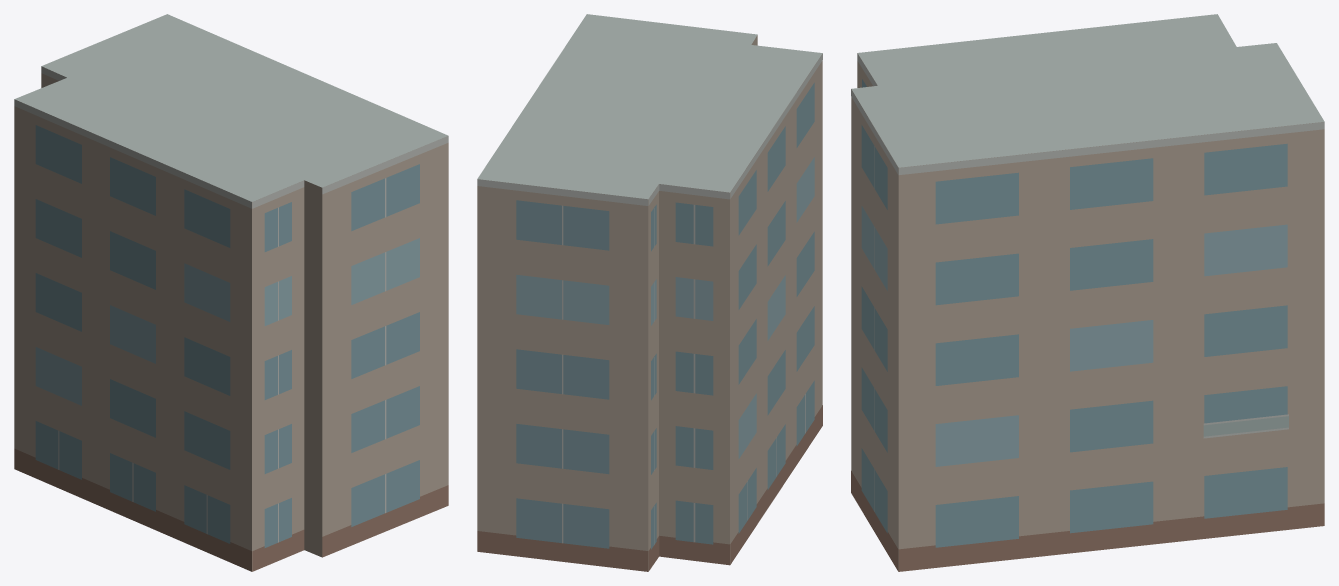
The model's file is survey-upis-32720489.glb.
3 views of the same model, side by side, from view 1: azimuth 30°, elevation 25°; view 2: azimuth 150°, elevation 25°; view 3: azimuth 270°, elevation 25° (orthographic). The views are drawn at different scales.
Parts seen in each view (by area): view 1: survey-upis-32720489.tmp; view 2: survey-upis-32720489.tmp; view 3: survey-upis-32720489.tmp.
Boxes of the visible parts, left/top/right/bottom form: survey-upis-32720489.tmp: left=14, top=14, right=448, bottom=571; survey-upis-32720489.tmp: left=477, top=14, right=822, bottom=571; survey-upis-32720489.tmp: left=851, top=14, right=1324, bottom=571.
Size of the model in its own units: 10.78 by 13.2 by 14.03.
